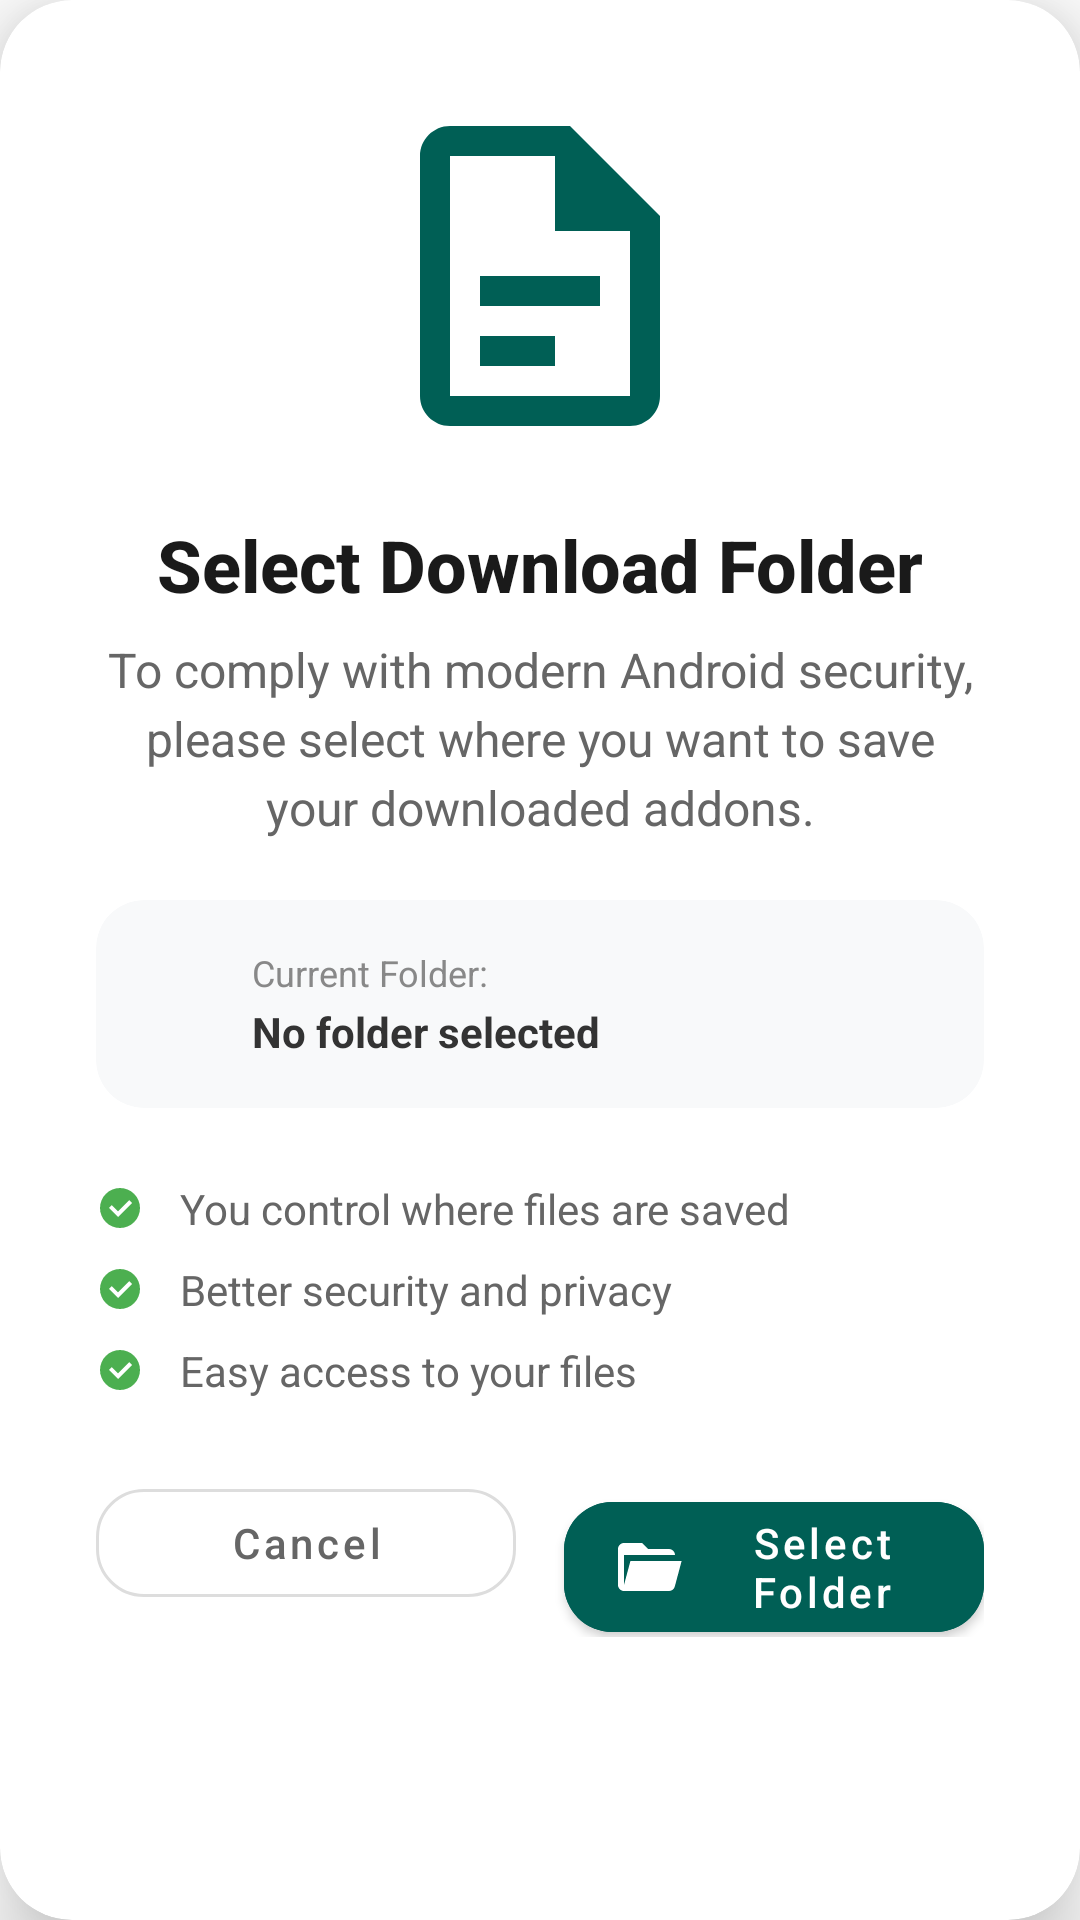

Icon click points for this 1080*1920 phone screenshot, format [x,y]:
check circle: [120,1208], [120,1289], [120,1370]
